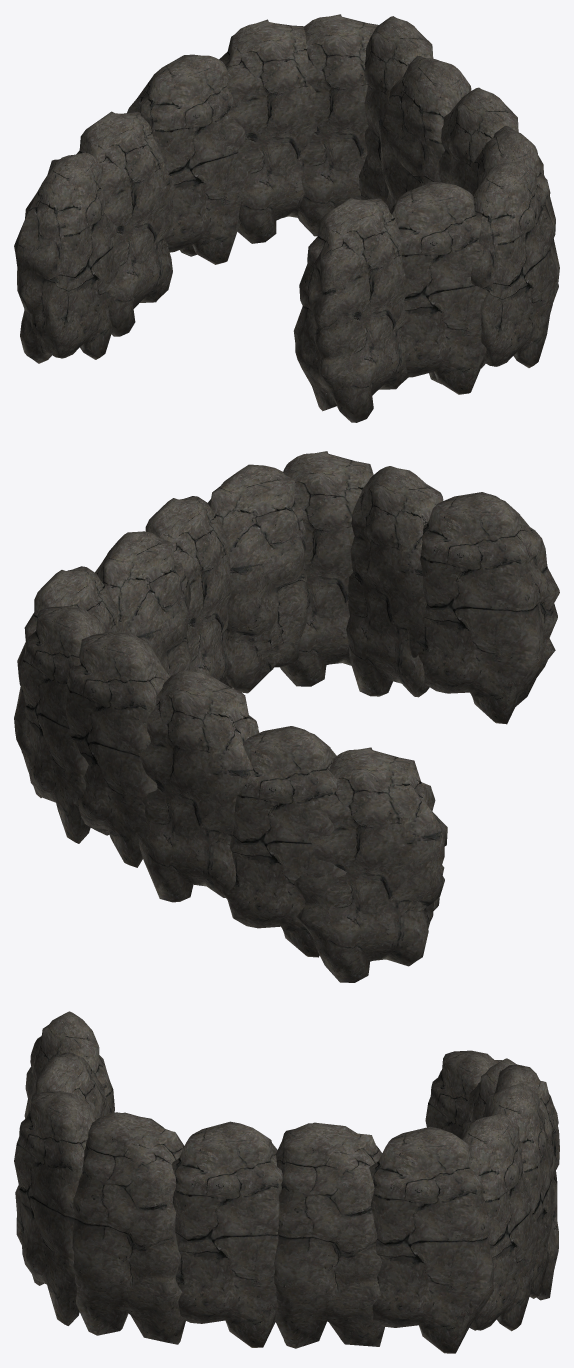
File: TwinPeakRocksShape5.dae
3 views of the same model, one above another, from view 1: azimuth 30°, elevation 25°; view 2: azimuth 150°, elevation 25°; view 3: azimuth 270°, elevation 25° (orthographic). The views are drawn at different scales.
Visible parts, largest first — view 1: TwinPeakRocks5; view 2: TwinPeakRocks5; view 3: TwinPeakRocks5.
Boxes of the visible parts, bbox=[...] form: TwinPeakRocks5: bbox=[14, 14, 559, 422]; TwinPeakRocks5: bbox=[14, 451, 559, 982]; TwinPeakRocks5: bbox=[14, 1011, 559, 1353].
Bounding box in the file's own units: 188 × 129 × 213.
